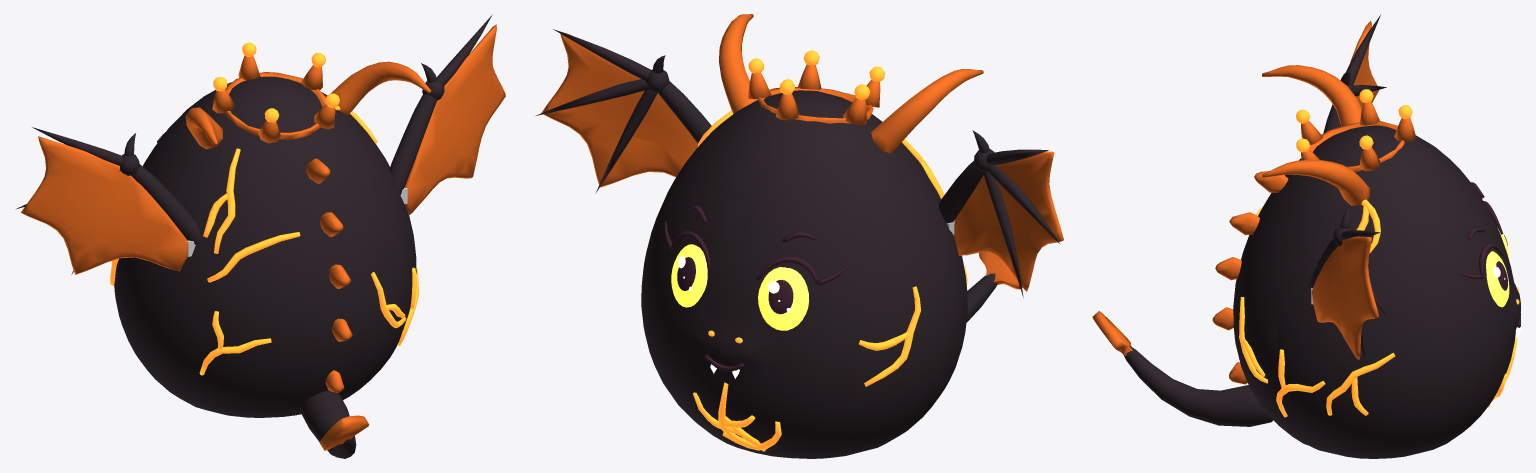
File: PyroclasmDragon.glb
3 renders of one model, left to right at view 1: azimuth 30°, elevation 25°; view 2: azimuth 150°, elevation 25°; view 3: azimuth 270°, elevation 25°, orthographic. The views are drawn at different scales.
Visible parts, largest first — view 1: PyroclasmDragon.Body, PyroclasmDragon.Accent@WingL, PyroclasmDragon.Accent@WingR, PyroclasmDragon.Accent, PyroclasmDragon.Neon_FF701C, PyroclasmDragon.Body@WingR, PyroclasmDragon.Body@WingL, PyroclasmDragon.Body@Wag, PyroclasmDragon.Accent@Wag; view 2: PyroclasmDragon.Body, PyroclasmDragon.Accent@WingR, PyroclasmDragon.Accent, PyroclasmDragon.Accent@WingL, PyroclasmDragon.Body@WingR, PyroclasmDragon.Neon_FF701C, PyroclasmDragon.Body@WingL, PyroclasmDragon.Eye, PyroclasmDragon.Mouth, PyroclasmDragon.Body@Wag, PyroclasmDragon.Accent@Wag; view 3: PyroclasmDragon.Body, PyroclasmDragon.Accent, PyroclasmDragon.Accent@WingR, PyroclasmDragon.Body@Wag, PyroclasmDragon.Neon_FF701C, PyroclasmDragon.Body@WingL, PyroclasmDragon.Body@WingR, PyroclasmDragon.Mouth, PyroclasmDragon.Eye, PyroclasmDragon.Accent@Wag, PyroclasmDragon.Accent@WingL.
Boxes of the visible parts, <box> form: PyroclasmDragon.Body: <box>114,76,416,417</box>; PyroclasmDragon.Accent@WingL: <box>21,136,187,274</box>; PyroclasmDragon.Accent@WingR: <box>404,24,505,214</box>; PyroclasmDragon.Accent: <box>185,55,431,392</box>; PyroclasmDragon.Neon_FF701C: <box>110,42,418,375</box>; PyroclasmDragon.Body@WingR: <box>390,14,492,195</box>; PyroclasmDragon.Body@WingL: <box>15,127,200,274</box>; PyroclasmDragon.Body@Wag: <box>299,390,356,458</box>; PyroclasmDragon.Accent@Wag: <box>319,415,369,450</box>; PyroclasmDragon.Body: <box>641,90,967,458</box>; PyroclasmDragon.Accent@WingR: <box>541,31,697,187</box>; PyroclasmDragon.Accent: <box>719,14,983,153</box>; PyroclasmDragon.Accent@WingL: <box>954,151,1063,291</box>; PyroclasmDragon.Body@WingR: <box>535,29,711,193</box>; PyroclasmDragon.Neon_FF701C: <box>693,50,967,451</box>; PyroclasmDragon.Body@WingL: <box>939,130,1060,297</box>; PyroclasmDragon.Eye: <box>671,244,809,330</box>; PyroclasmDragon.Mouth: <box>664,205,849,371</box>; PyroclasmDragon.Body@Wag: <box>966,273,997,322</box>; PyroclasmDragon.Accent@Wag: <box>978,252,1022,289</box>; PyroclasmDragon.Body: <box>1233,125,1520,458</box>; PyroclasmDragon.Accent: <box>1212,65,1416,384</box>; PyroclasmDragon.Accent@WingR: <box>1312,236,1379,359</box>; PyroclasmDragon.Body@Wag: <box>1123,345,1273,426</box>; PyroclasmDragon.Neon_FF701C: <box>1239,89,1519,417</box>; PyroclasmDragon.Body@WingL: <box>1323,15,1386,133</box>; PyroclasmDragon.Body@WingR: <box>1309,205,1387,362</box>; PyroclasmDragon.Mouth: <box>1459,182,1520,327</box>; PyroclasmDragon.Eye: <box>1486,229,1509,307</box>; PyroclasmDragon.Accent@Wag: <box>1092,311,1132,356</box>; PyroclasmDragon.Accent@WingL: <box>1350,21,1378,108</box>.
Size of the model in its own units: 3.43 by 2.28 by 2.69.
